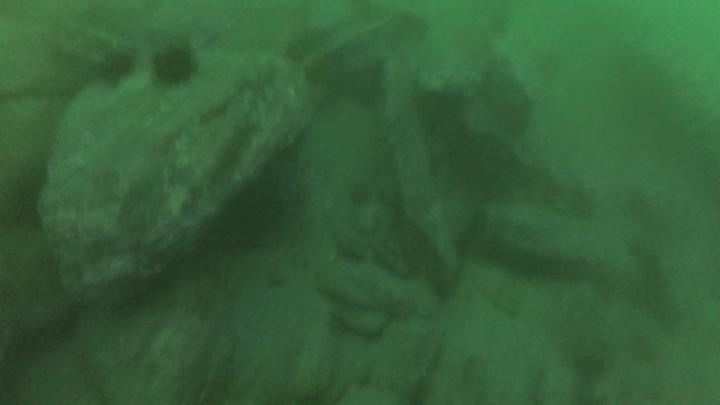echinus: (150, 43, 199, 89), (96, 47, 138, 86)
